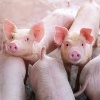heo: (1, 16, 43, 60), (49, 21, 93, 63), (31, 62, 73, 99)
